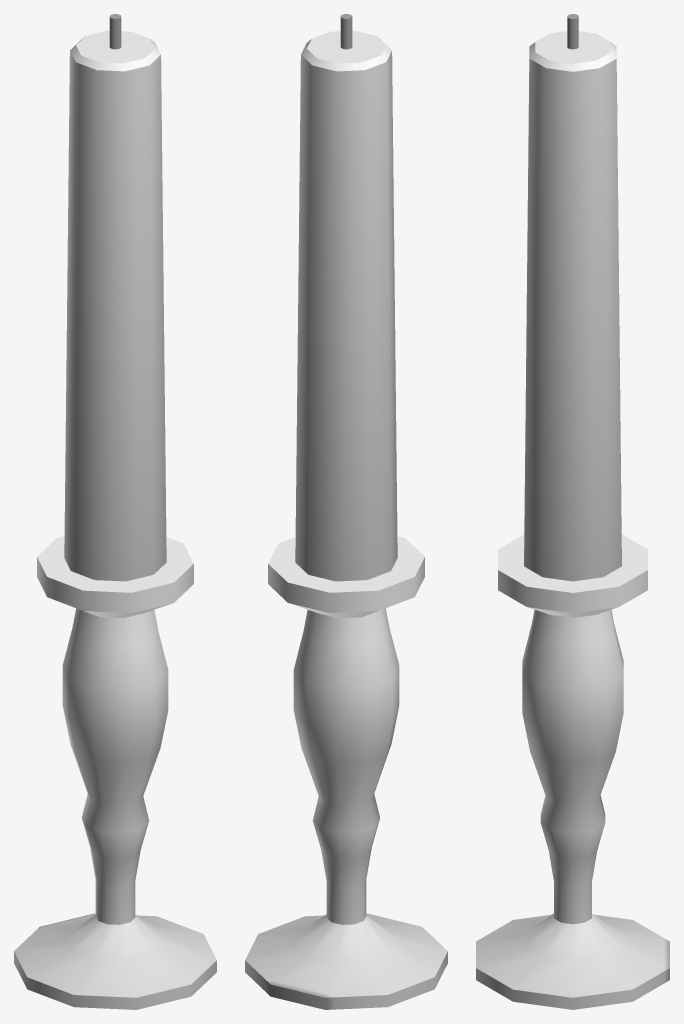
Rendered from Hotcandle.fbx.
3 views of the same model, side by side, from view 1: azimuth 30°, elevation 25°; view 2: azimuth 150°, elevation 25°; view 3: azimuth 270°, elevation 25° (orthographic).
Visible parts, largest first — view 1: Candle; view 2: Candle; view 3: Candle.
Boxes of the visible parts, <box> form: Candle: <box>14,14,216,1009</box>; Candle: <box>245,14,447,1009</box>; Candle: <box>476,14,669,1009</box>.
Size of the model in its own units: 0.6138 by 3.16 by 0.5838.
